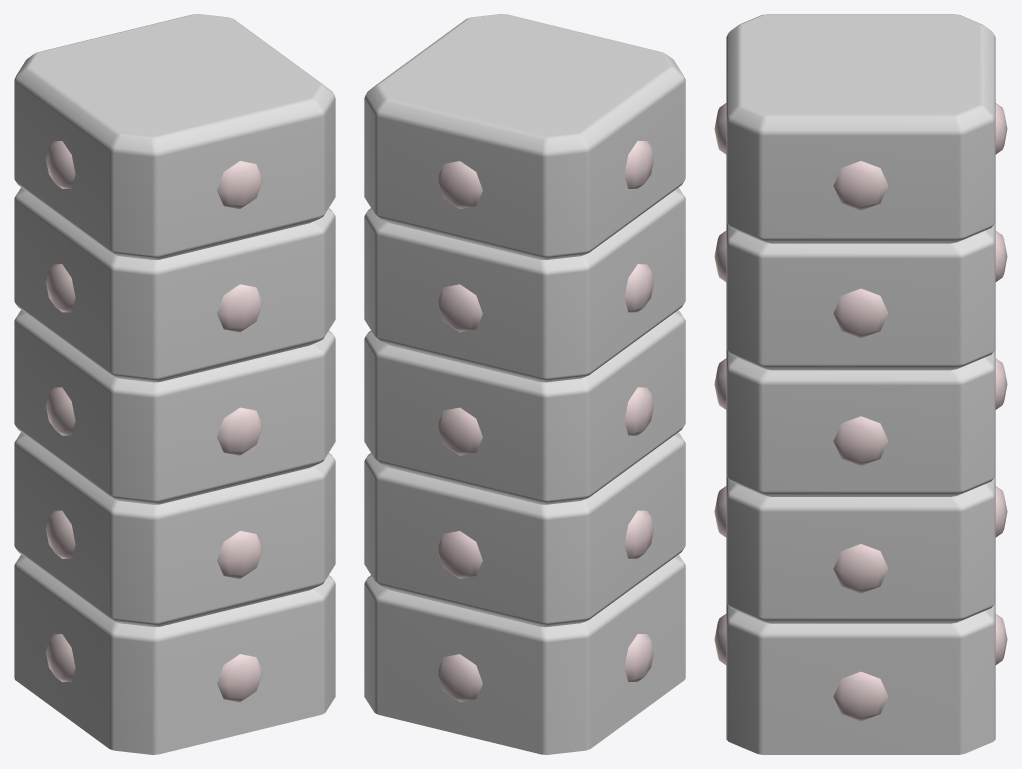
Rendered from obstacle_2_002.fbx.
The picture shows the model from 3 angles, left to right: view 1: azimuth 30°, elevation 25°; view 2: azimuth 150°, elevation 25°; view 3: azimuth 270°, elevation 25°; orthographic projection. The views are drawn at different scales.
Parts seen in each view (by area): view 1: obstacle_2_002; view 2: obstacle_2_002; view 3: obstacle_2_002.
Part boxes in pixels (x1,y1,x2,y2): obstacle_2_002: (14, 14, 335, 754); obstacle_2_002: (364, 14, 685, 754); obstacle_2_002: (714, 14, 1007, 754).
Size of the model in its own units: 186 by 186 by 444.
